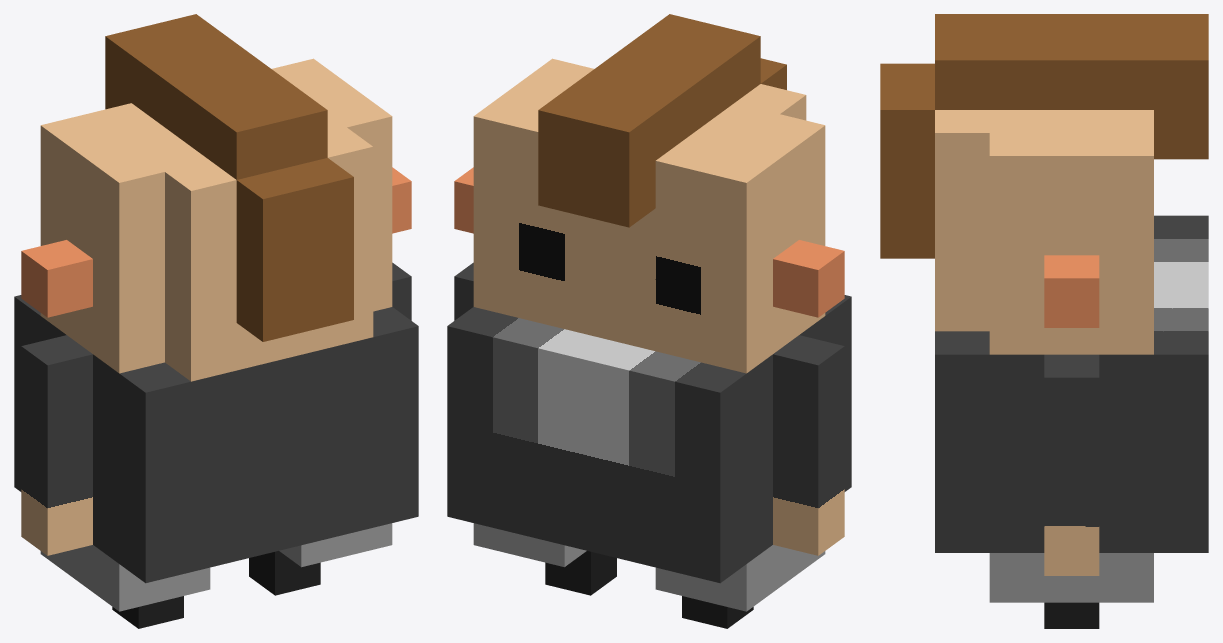
The model's file is chr_suit3.dae.
The picture shows the model from 3 angles, left to right: view 1: azimuth 30°, elevation 25°; view 2: azimuth 150°, elevation 25°; view 3: azimuth 270°, elevation 25°; orthographic projection. The views are drawn at different scales.
Parts seen in each view (by area): view 1: chr_suit3; view 2: chr_suit3; view 3: chr_suit3.
Boxes of the visible parts, x1=… form: chr_suit3: x1=14, y1=14, x2=418, y2=628; chr_suit3: x1=447, y1=14, x2=851, y2=628; chr_suit3: x1=880, y1=14, x2=1208, y2=628.
Bounding box in the file's own units: 0.8 × 0.6 × 1.1.
1 material, 1 textured.
